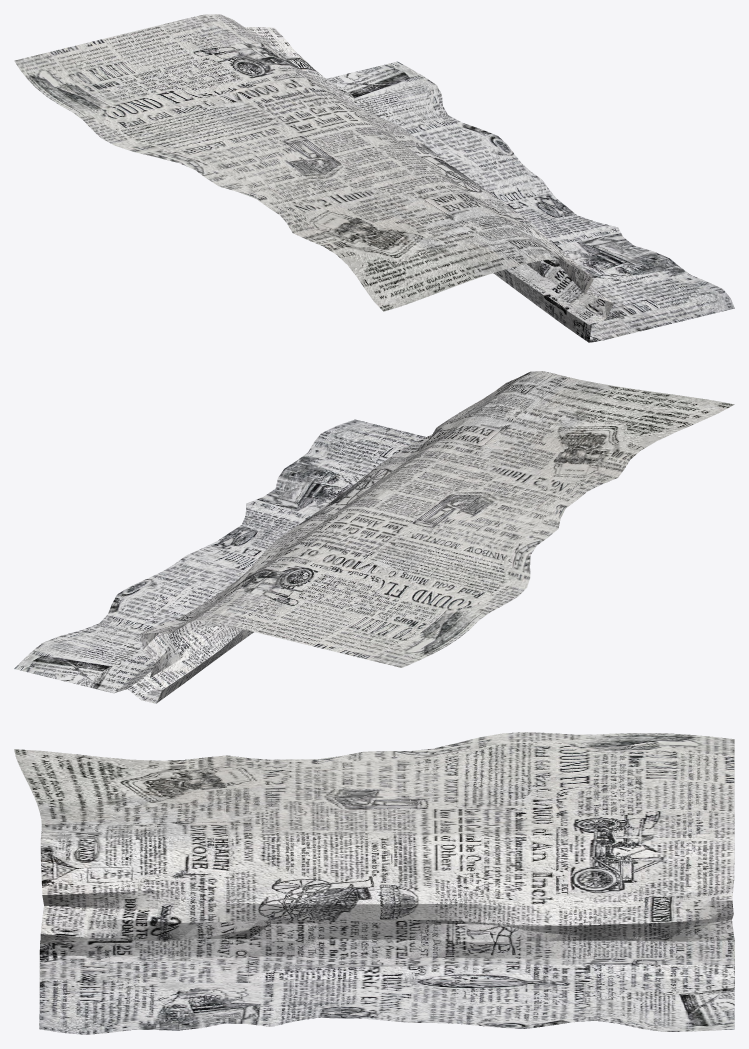
File: NewspaperA_1.fbx
The picture shows the model from 3 angles, top to bottom: view 1: azimuth 30°, elevation 25°; view 2: azimuth 150°, elevation 25°; view 3: azimuth 270°, elevation 25°; orthographic projection. The views are drawn at different scales.
Parts seen in each view (by area): view 1: NEWS_pPlane9; view 2: NEWS_pPlane9; view 3: NEWS_pPlane9.
Boxes of the visible parts, <box> form: NEWS_pPlane9: <box>14,14,734,342</box>; NEWS_pPlane9: <box>14,371,734,703</box>; NEWS_pPlane9: <box>14,732,734,1034</box>.
Size of the model in its own units: 7.55 by 1.67 by 11.19.
